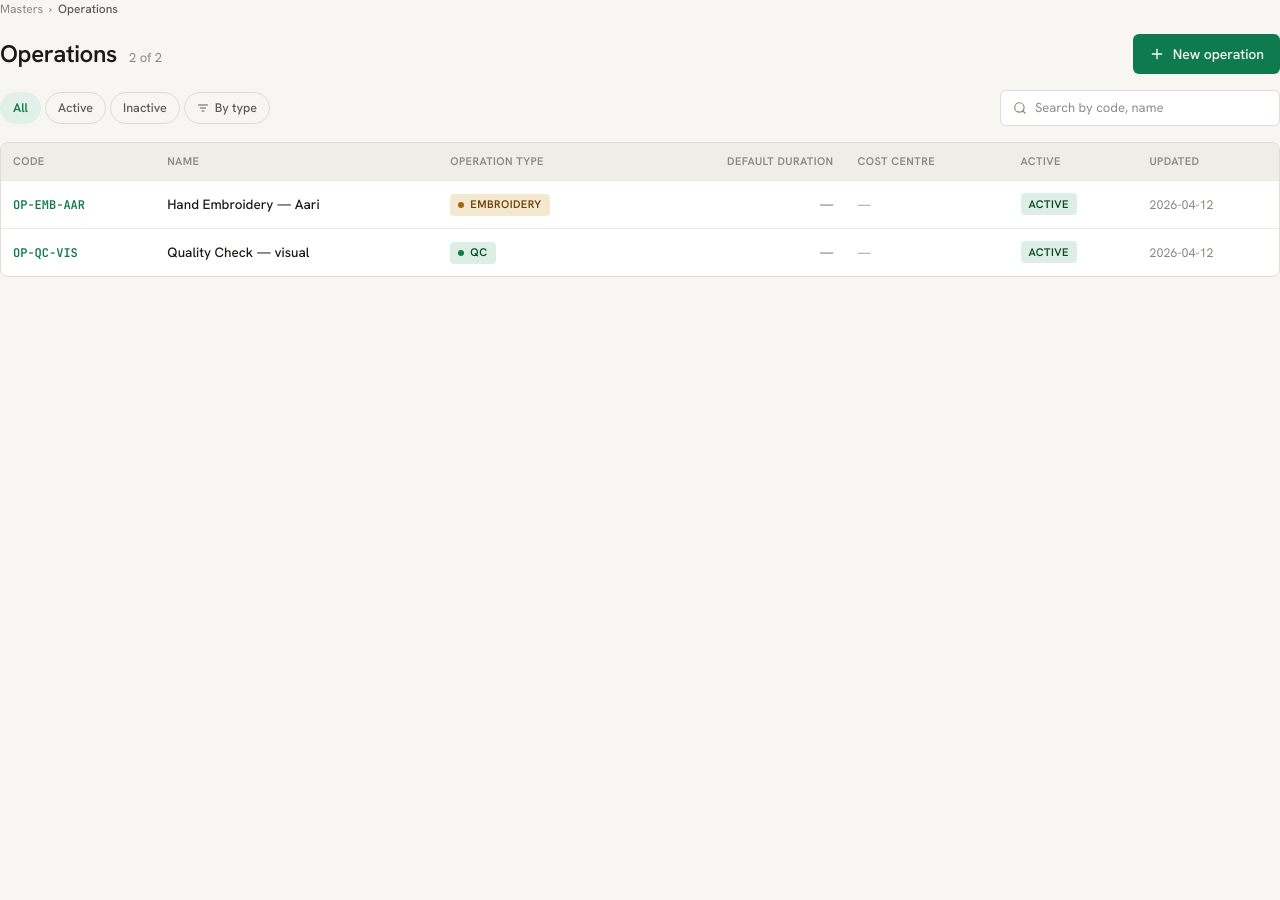
OperationsList (live-mode, TASK-TR-E1) › opens the By-type popover and filters by selected type
The image size is (1280, 900).
Expected: the text "OP-EMB-AAR" is shown, [13, 196, 85, 212]
Click the button "By type": click(227, 108) [184, 92, 270, 124]
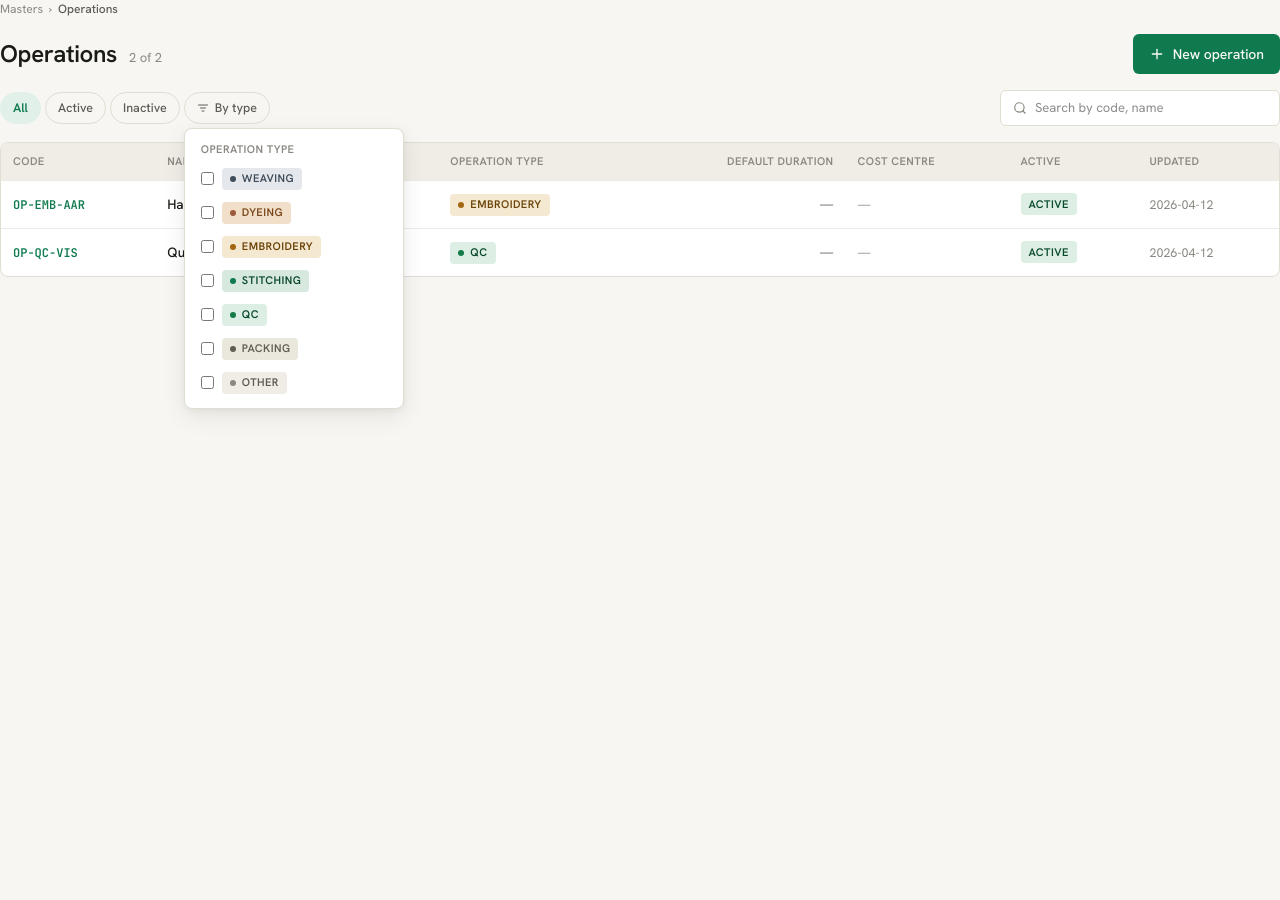
Result: the dialog named "filter by operation type" is shown at [184, 128, 404, 408]
Click the checkbox labelled "QC": click(207, 314) [201, 308, 214, 321]
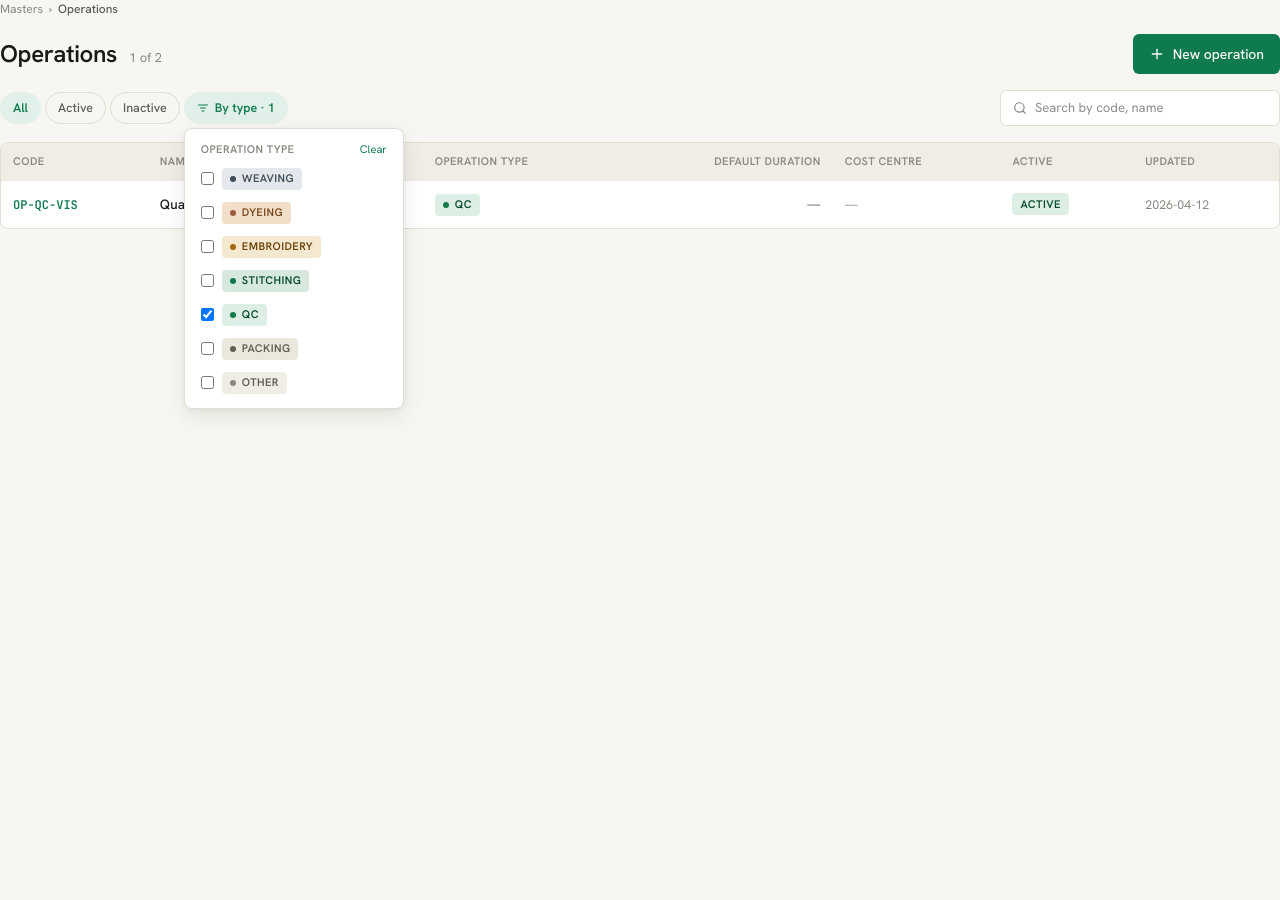
Expected: the text "OP-QC-VIS" is shown, [13, 196, 78, 212]
Result: the text "OP-EMB-AAR" is gone
